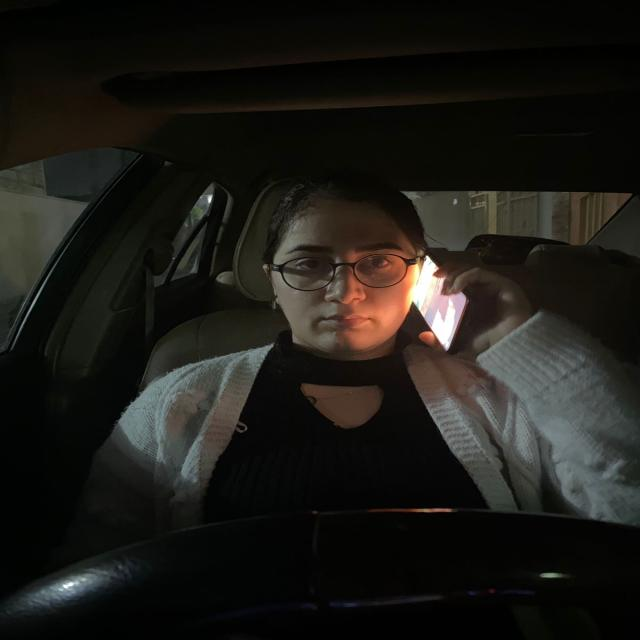phone: (414, 243, 478, 357)
